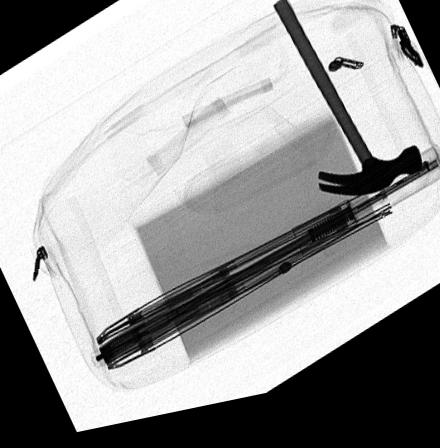Hammer: (271, 6, 423, 211)
